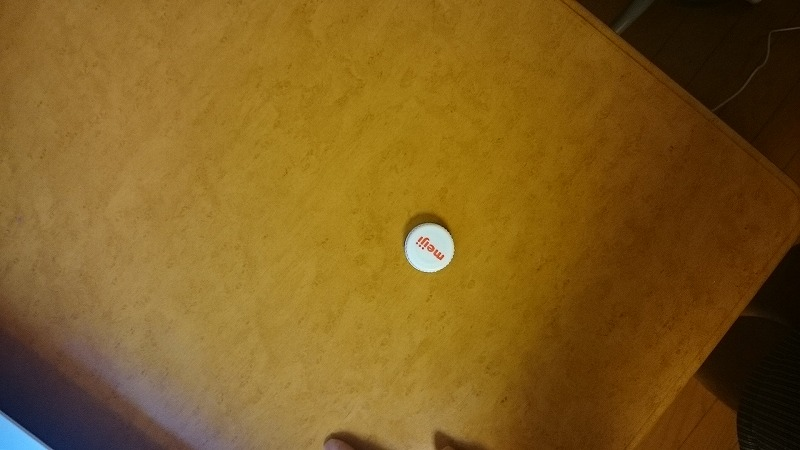B: (400, 219, 468, 285)
